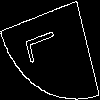L: (24, 25, 67, 65)
